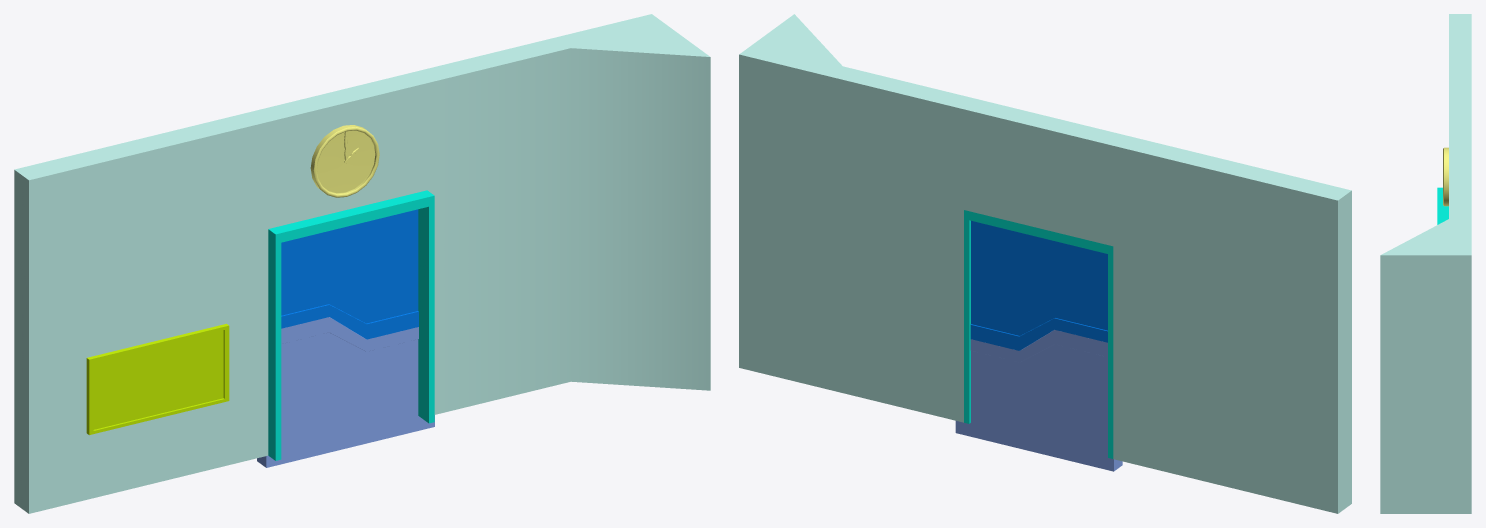
File: 1x1DoorVariation1.fbx
The picture shows the model from 3 angles, left to right: view 1: azimuth 30°, elevation 25°; view 2: azimuth 150°, elevation 25°; view 3: azimuth 270°, elevation 25°; orthographic projection. The views are drawn at different scales.
Parts seen in each view (by area): view 1: Wall, DootBottomHalf, DoorTopHalf, Billboard, DoorFrame, Reloj; view 2: Wall, DootBottomHalf, DoorTopHalf, DoorFrame; view 3: Wall, Reloj, DoorFrame.
Boxes of the visible parts, <box> form: Wall: <box>14,14,710,513</box>; DootBottomHalf: <box>257,317,434,467</box>; DoorTopHalf: <box>281,209,418,339</box>; Billboard: <box>86,323,229,434</box>; DoorFrame: <box>268,190,434,460</box>; Reloj: <box>310,125,379,197</box>; Wall: <box>739,14,1351,513</box>; DootBottomHalf: <box>955,330,1122,471</box>; DoorTopHalf: <box>970,220,1107,350</box>; DoorFrame: <box>964,210,1113,458</box>; Wall: <box>1380,14,1471,513</box>; Reloj: <box>1443,147,1448,206</box>; DoorFrame: <box>1437,187,1448,224</box>.
Bounding box in the file's own units: 100 × 52.28 × 16.
